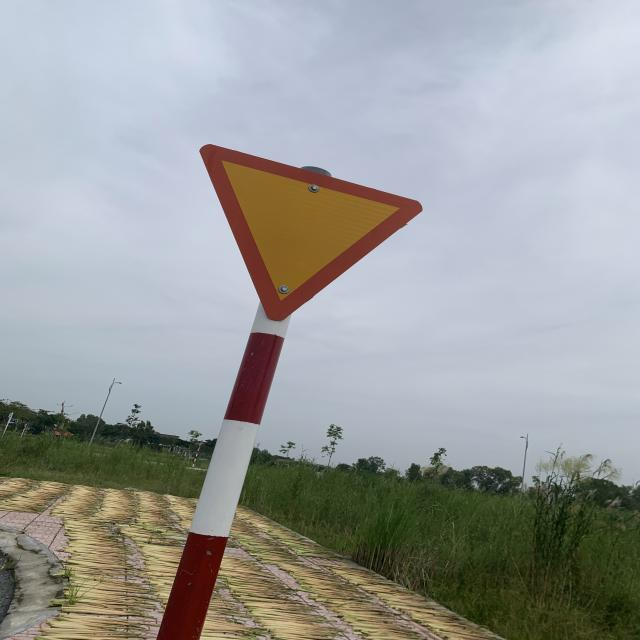Gioi_Han_Toc_Do_25: (200, 144, 422, 322)
